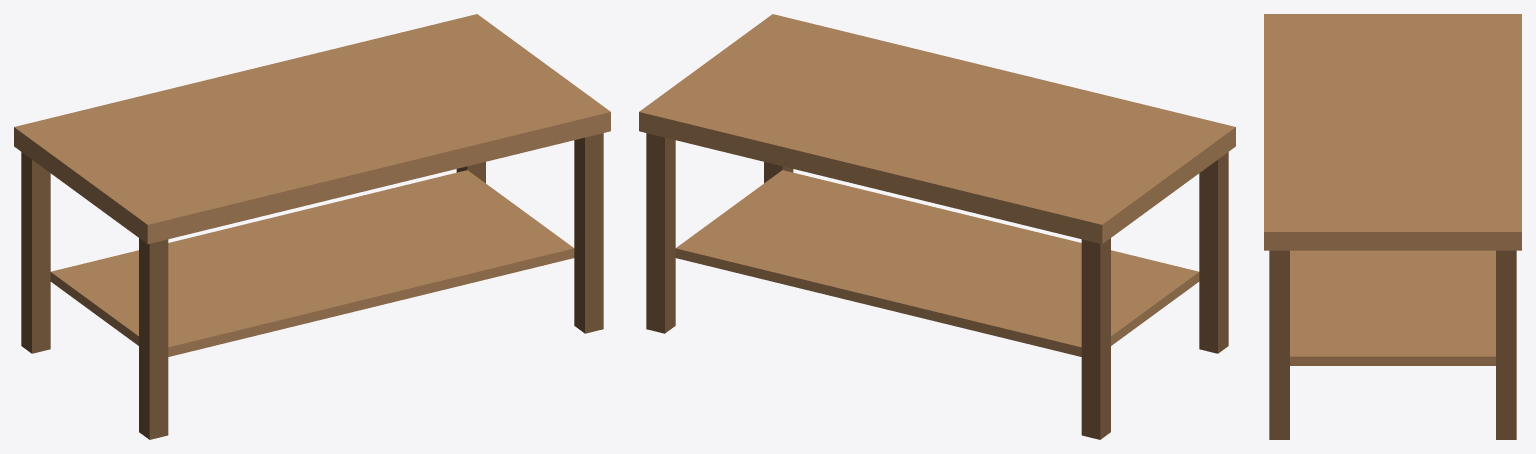
File: coffee-table.glb
3 renders of one model, left to right at view 1: azimuth 30°, elevation 25°; view 2: azimuth 150°, elevation 25°; view 3: azimuth 270°, elevation 25°, orthographic. The views are drawn at different scales.
Visible parts, largest first — view 1: coffee-table; view 2: coffee-table; view 3: coffee-table.
Boxes of the visible parts, x1=… form: coffee-table: x1=14, y1=14, x2=610, y2=439; coffee-table: x1=639, y1=14, x2=1235, y2=439; coffee-table: x1=1264, y1=14, x2=1521, y2=439.
Bounding box in the file's own units: 1 × 0.45 × 0.5.
